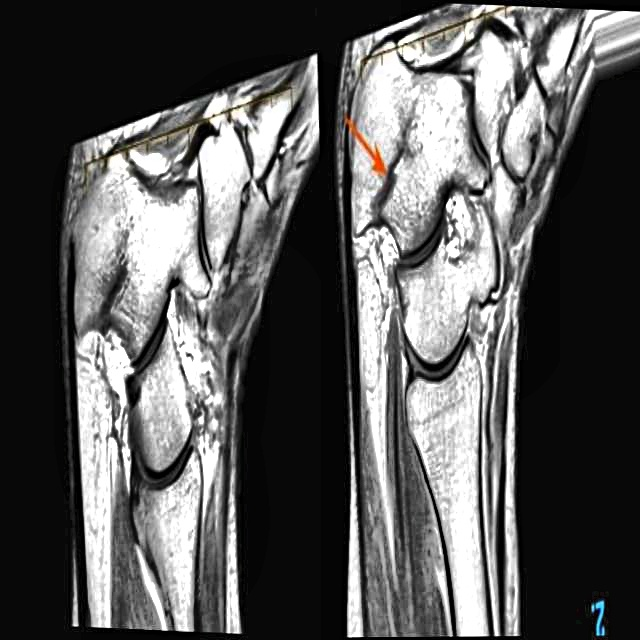Oblique Displaced: (360, 104, 427, 234)
